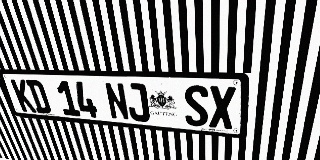1: (54, 81, 81, 116)
4: (72, 81, 98, 118)
D: (25, 80, 52, 114)
J: (124, 83, 151, 122)
K: (10, 79, 37, 113)
N: (104, 82, 130, 121)
S: (183, 85, 208, 127)
X: (209, 86, 236, 129)
